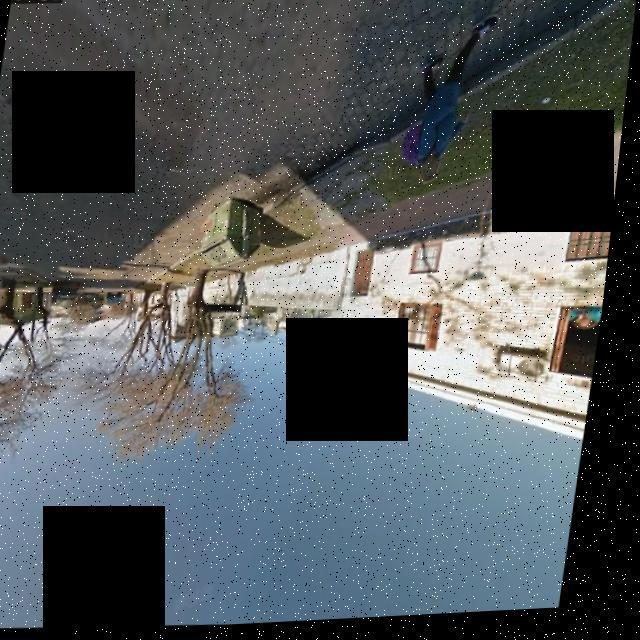bin: (191, 192, 279, 278)
